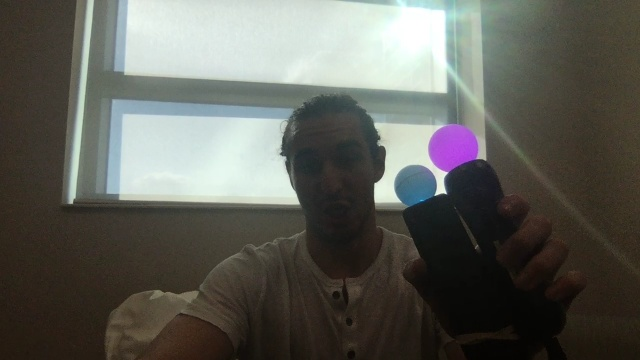wand: (428, 124, 479, 170), (395, 165, 437, 205)
